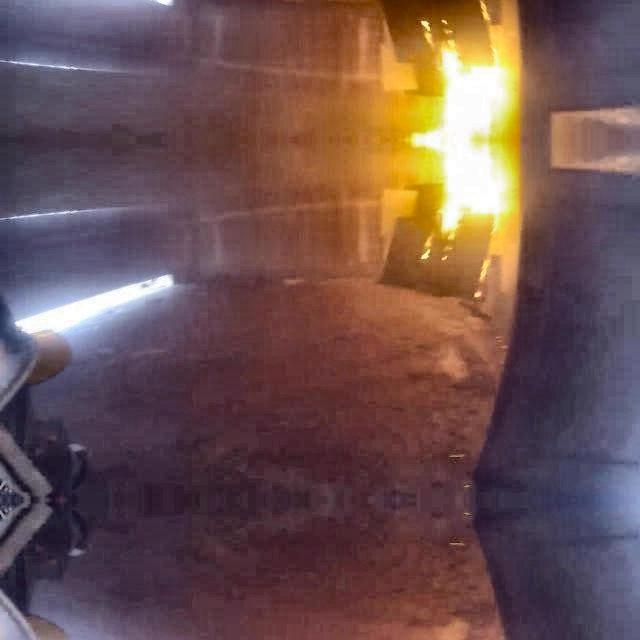fire: (388, 14, 546, 251)
